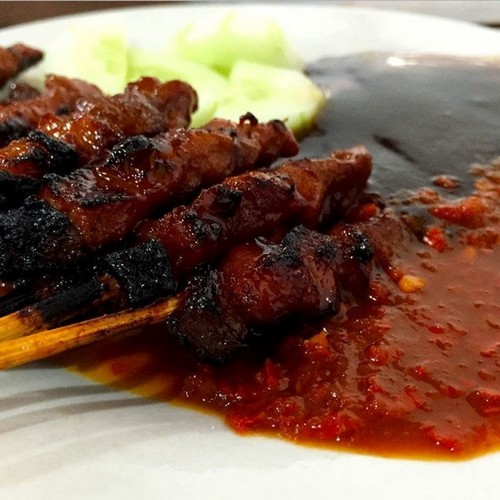sate plecing: (8, 49, 399, 374)
